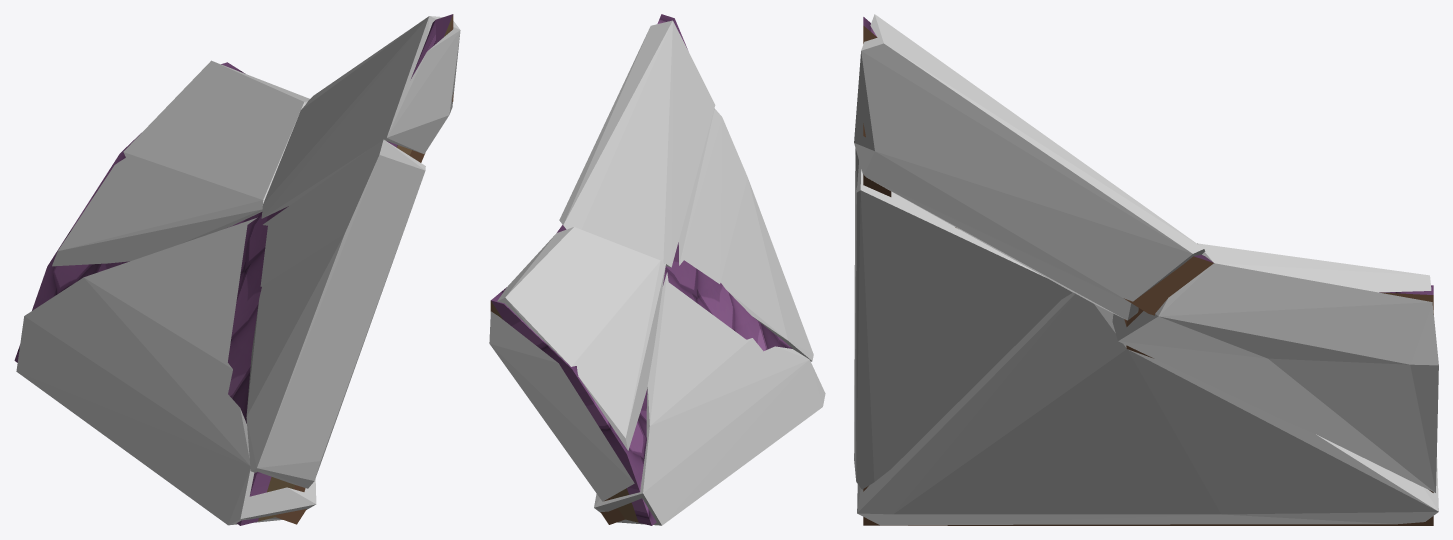
The model's file is SM_Bld_Roof_Convex_Small_Peak_01.fbx.
3 views of the same model, side by side, from view 1: azimuth 30°, elevation 25°; view 2: azimuth 150°, elevation 25°; view 3: azimuth 270°, elevation 25° (orthographic). The views are drawn at different scales.
Parts seen in each view (by area): view 1: SM_Bld_Roof_Convex_Small_Peak_01_ConvexHulls, SM_Bld_Roof_Convex_Small_Peak_01; view 2: SM_Bld_Roof_Convex_Small_Peak_01_ConvexHulls, SM_Bld_Roof_Convex_Small_Peak_01; view 3: SM_Bld_Roof_Convex_Small_Peak_01_ConvexHulls, SM_Bld_Roof_Convex_Small_Peak_01.
Part boxes in pixels (x1,y1,x2,y2): SM_Bld_Roof_Convex_Small_Peak_01_ConvexHulls: (16, 16, 460, 525); SM_Bld_Roof_Convex_Small_Peak_01: (14, 14, 453, 525); SM_Bld_Roof_Convex_Small_Peak_01_ConvexHulls: (489, 20, 825, 525); SM_Bld_Roof_Convex_Small_Peak_01: (490, 14, 793, 525); SM_Bld_Roof_Convex_Small_Peak_01_ConvexHulls: (854, 14, 1438, 525); SM_Bld_Roof_Convex_Small_Peak_01: (863, 17, 1433, 525).
Bounding box in the file's own units: 144 × 256 × 289.
4 materials, 3 textured.
